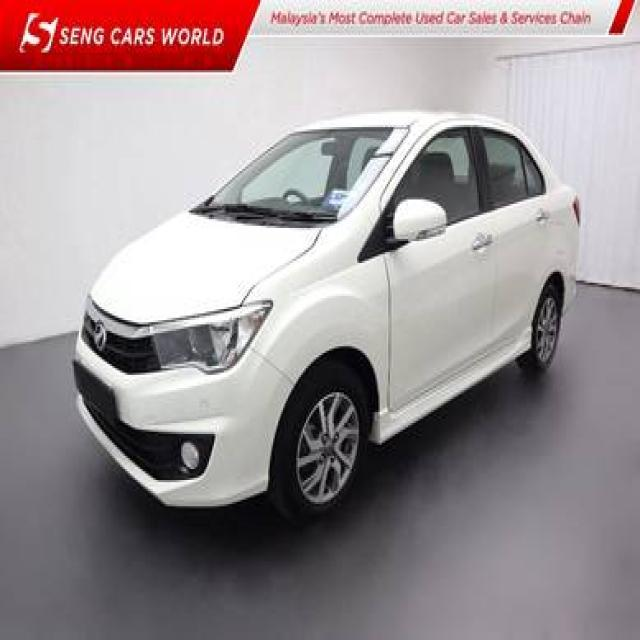PeroduaBezza: (70, 108, 582, 525)
